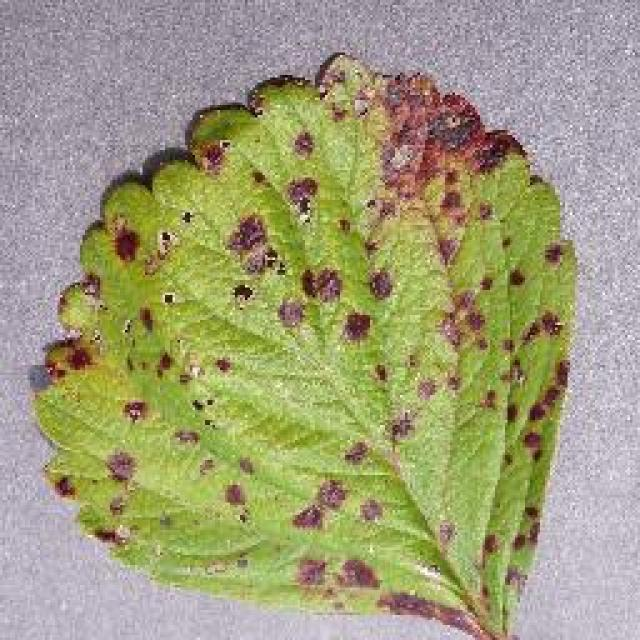Strawberry leaf scorch: (100, 70, 532, 540)
